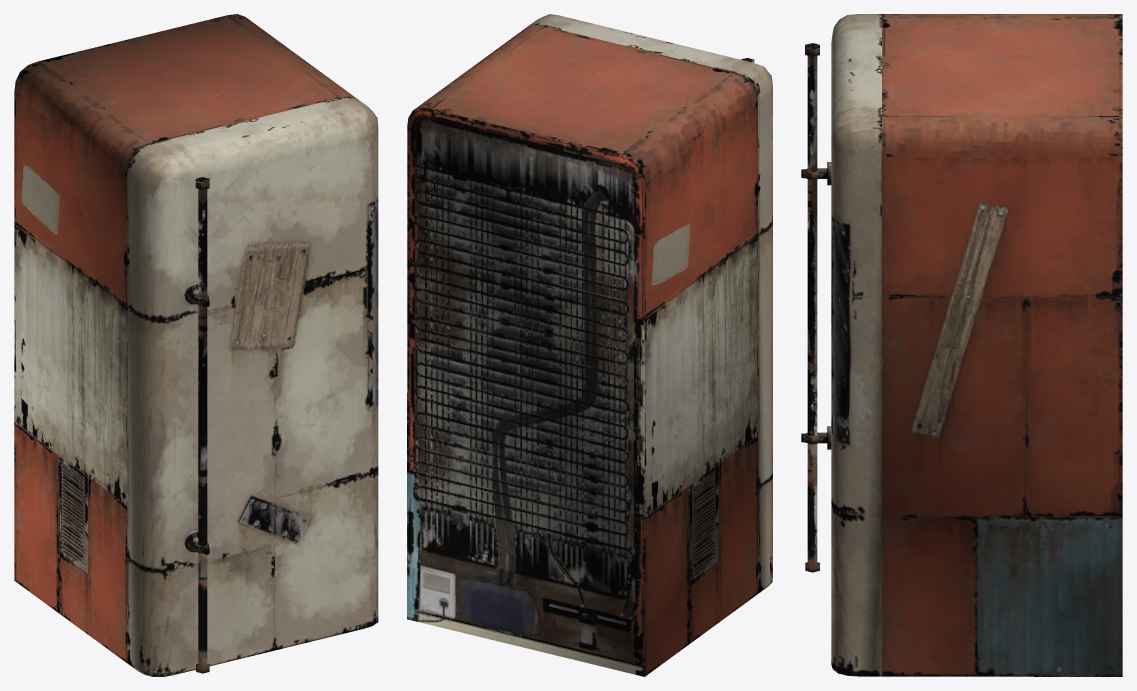
File: холодильникк.fbx
The picture shows the model from 3 angles, left to right: view 1: azimuth 30°, elevation 25°; view 2: azimuth 150°, elevation 25°; view 3: azimuth 270°, elevation 25°; orthographic projection. The views are drawn at different scales.
Parts seen in each view (by area): view 1: fridge_guide; view 2: fridge_guide; view 3: fridge_guide.
Part boxes in pixels (x1,y1,x2,y2): fridge_guide: (14, 14, 378, 676); fridge_guide: (407, 14, 772, 676); fridge_guide: (801, 14, 1122, 676).
Bounding box in the file's own units: 9629 × 19992 × 10613.
1 material, 1 textured.
